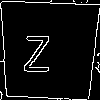Z: (23, 24, 51, 72)
